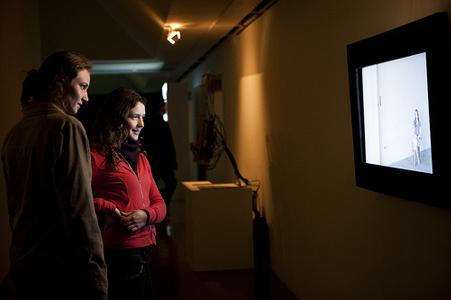person: (86, 91, 168, 299)
